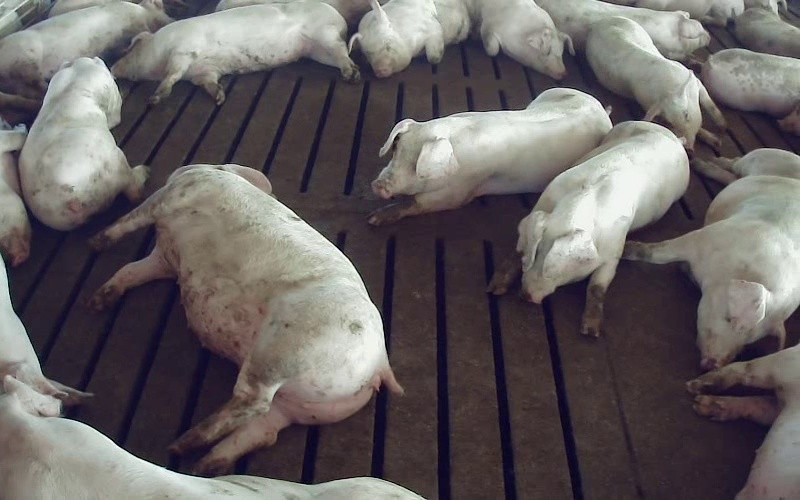pig: (91, 164, 402, 474), (0, 376, 422, 499), (487, 121, 688, 335), (624, 148, 799, 368), (368, 88, 611, 224), (111, 2, 359, 103), (19, 57, 148, 229), (586, 17, 725, 149), (687, 344, 799, 499), (0, 0, 172, 99), (536, 0, 709, 60), (348, 0, 470, 77), (468, 0, 573, 79), (701, 48, 799, 116)
